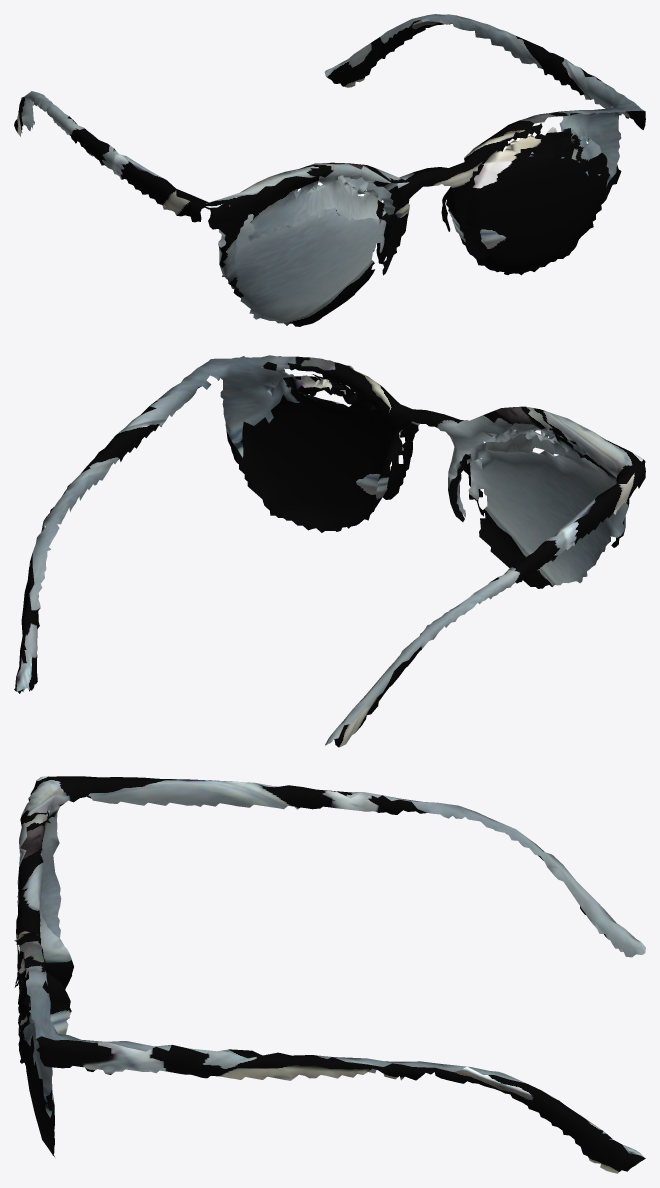
The model's file is scan_align.obj.
3 renders of one model, top to bottom at view 1: azimuth 30°, elevation 25°; view 2: azimuth 150°, elevation 25°; view 3: azimuth 270°, elevation 25°, orthographic. The views are drawn at different scales.
Bounding box in the file's own units: 0.1472 × 0.052 × 0.149.
